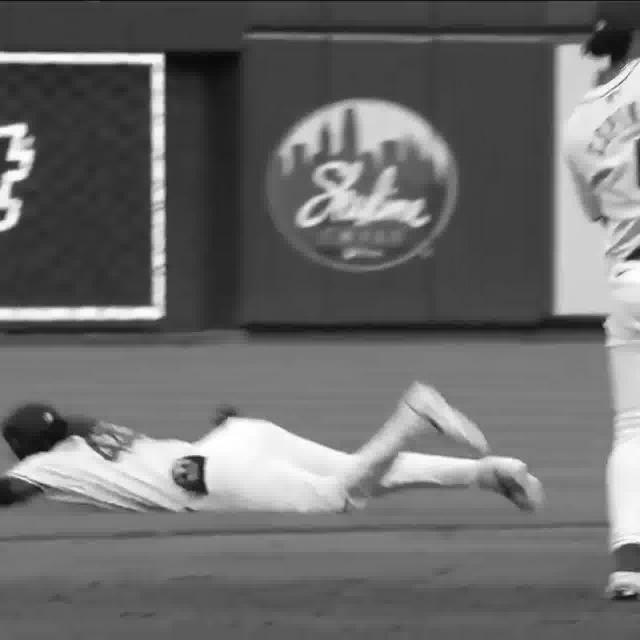shoe: (412, 388, 498, 451), (496, 459, 548, 516), (610, 560, 640, 600)
